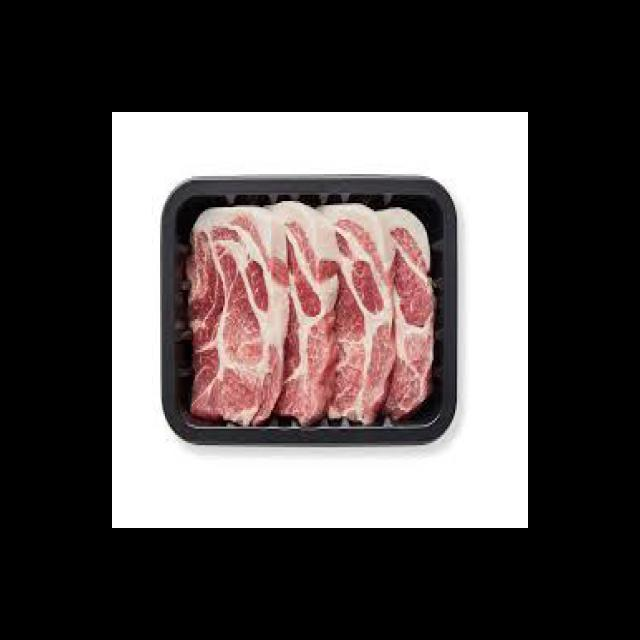pork: (344, 205, 437, 416), (193, 212, 284, 420), (286, 209, 344, 414)
